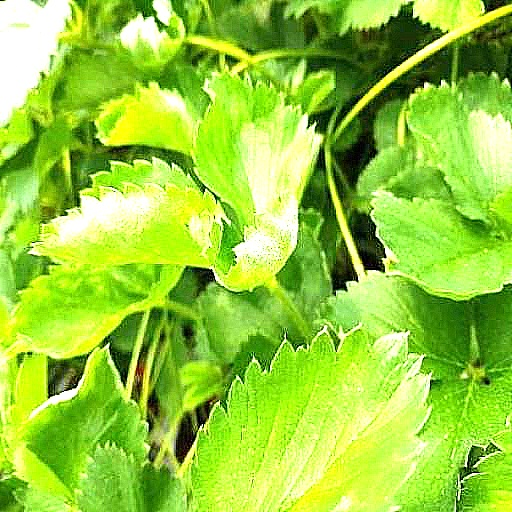Powdery Mildew Leaf: (80, 322, 322, 511), (279, 156, 485, 269), (361, 342, 496, 498), (211, 191, 325, 293), (312, 79, 417, 157), (327, 11, 398, 71)
